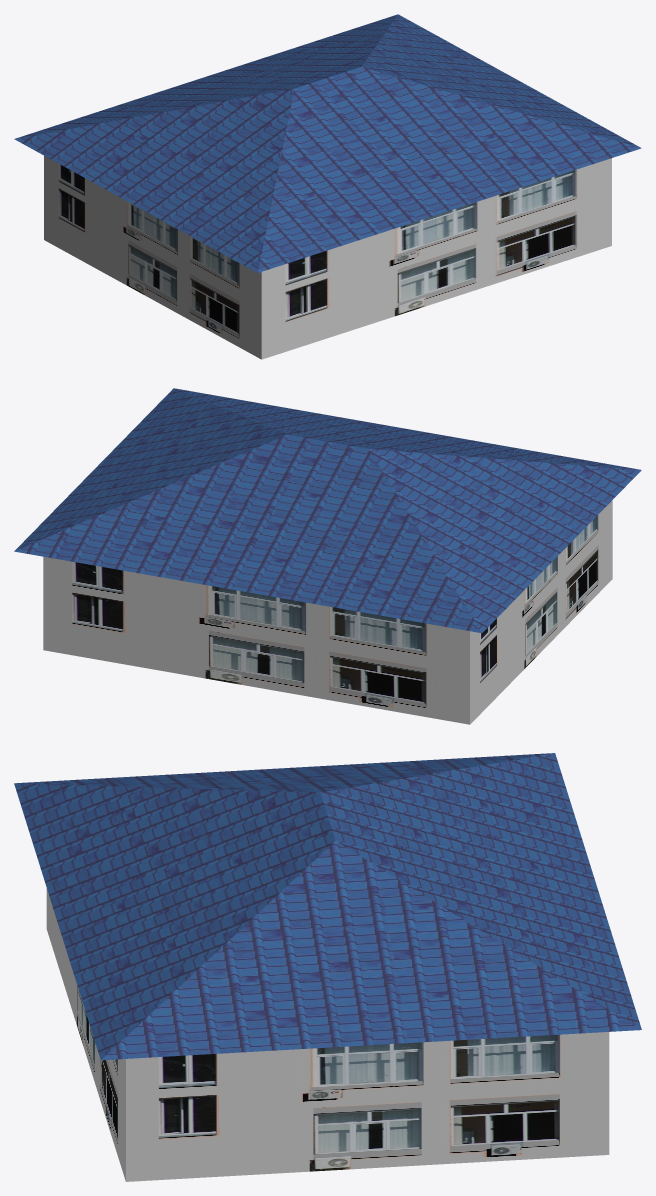
The picture shows the model from 3 angles, top to bottom: view 1: azimuth 30°, elevation 25°; view 2: azimuth 150°, elevation 25°; view 3: azimuth 270°, elevation 25°; orthographic projection. The views are drawn at different scales.
Parts seen in each view (by area): view 1: CityEngineMaterial_10_m, CityEngineMaterial_9_m; view 2: CityEngineMaterial_10_m, CityEngineMaterial_9_m; view 3: CityEngineMaterial_10_m, CityEngineMaterial_9_m.
Boxes of the visible parts, x1,y1,x2,y2 form: CityEngineMaterial_10_m: (14, 14, 641, 272); CityEngineMaterial_9_m: (44, 156, 611, 359); CityEngineMaterial_10_m: (14, 388, 641, 633); CityEngineMaterial_9_m: (43, 500, 612, 724); CityEngineMaterial_10_m: (14, 753, 641, 1060); CityEngineMaterial_9_m: (46, 888, 609, 1181).
Bounding box in the file's own units: 23.42 × 8.01 × 20.22.
